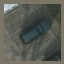car: (20, 18, 51, 43)
